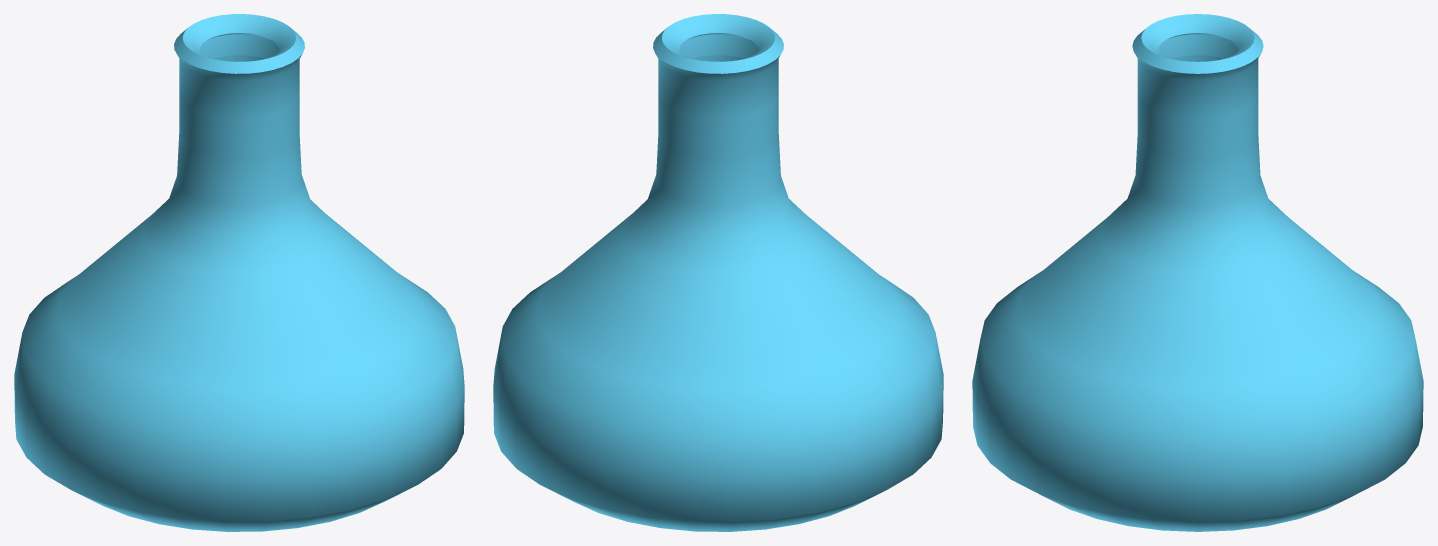
File: static.glb
3 views of the same model, side by side, from view 1: azimuth 30°, elevation 25°; view 2: azimuth 150°, elevation 25°; view 3: azimuth 270°, elevation 25° (orthographic).
Parts seen in each view (by area): view 1: Lathe_3; view 2: Lathe_3; view 3: Lathe_3.
Boxes of the visible parts, left/top/right/bottom form: Lathe_3: left=14, top=14, right=464, bottom=531; Lathe_3: left=493, top=14, right=943, bottom=531; Lathe_3: left=972, top=14, right=1423, bottom=531.
Size of the model in its own units: 0.6938 by 0.7088 by 0.6938.
Materials: 2 (2 with a texture image).
